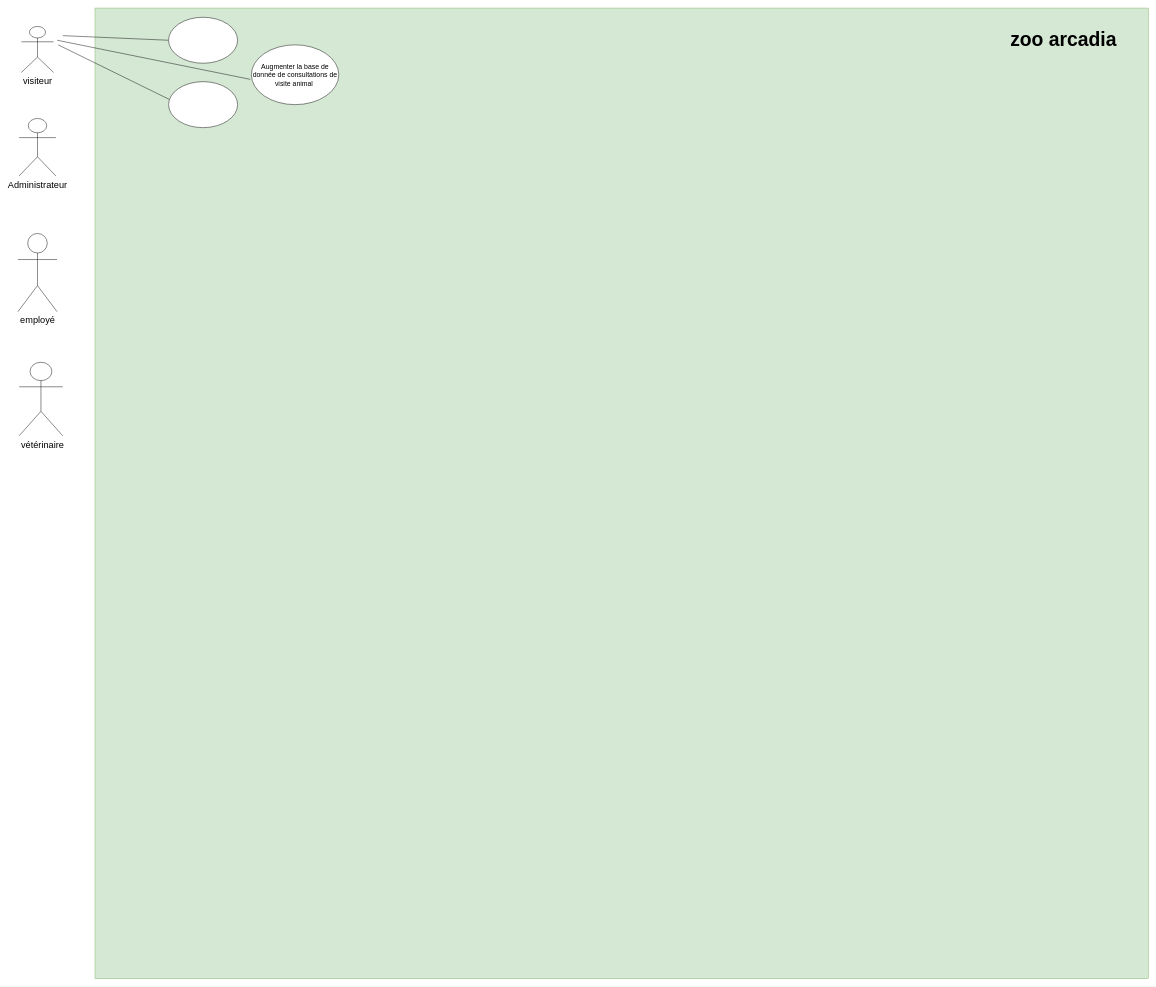
This 1156x987 diagram has some shape labels left out. Each missing label, with the centre of its shape:
"contacter le zoo page contact" belongs at pixel 203 104.
"Laisser un commentaire pseudo+avis" belongs at pixel 203 40.
